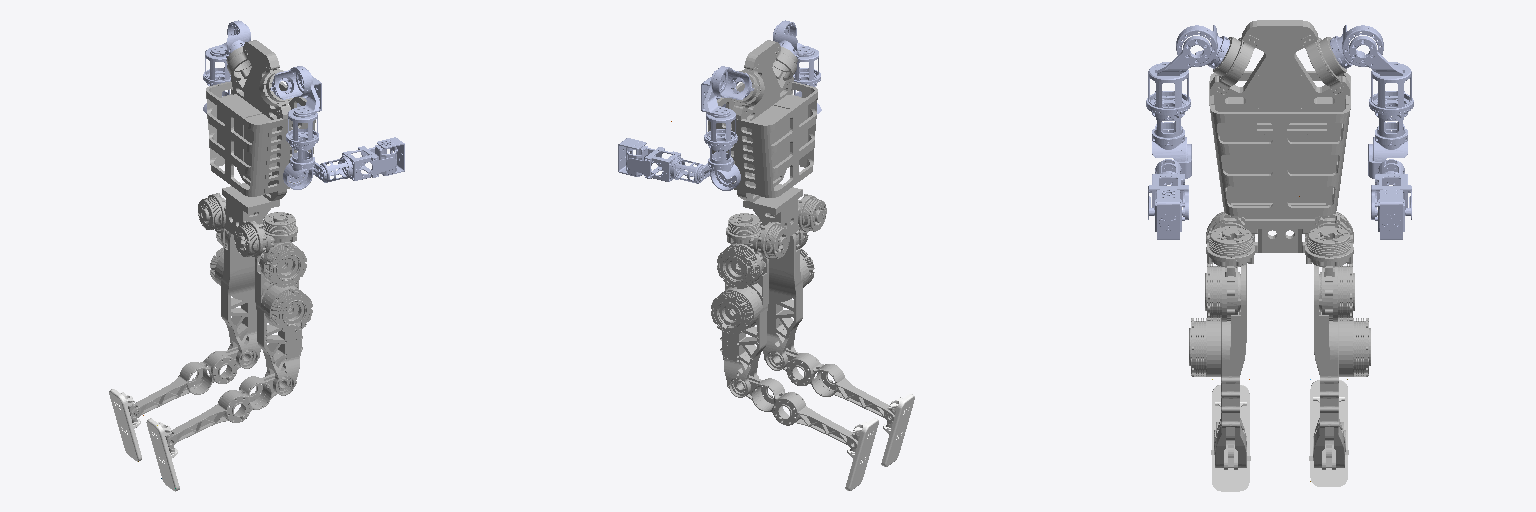
--- Facts derived from the render (not from the file) ---
The picture shows the robot from 3 angles, left to right: view 1: azimuth 30°, elevation 25°; view 2: azimuth 150°, elevation 25°; view 3: azimuth 270°, elevation 25°; orthographic projection.
Robot: hunter — 48 links, 47 joints (26 revolute, 21 fixed); root link base_link; default pose: joints at zero except 2 at the middle of their limits (leg_l4_joint = 1.3, leg_r4_joint = 1.3).
Links seen in each view (by area): view 1: base_link, leg_r3_link, leg_l3_link, leg_r4_link, leg_l4_link, leg_r2_link, zarm_r2_link, leg_r6_link, leg_l6_link, zarm_r3_link, zarm_r5_link, zarm_r1_link (+4 smaller); view 2: base_link, leg_l3_link, leg_r3_link, leg_l4_link, leg_r4_link, leg_l2_link, zarm_l2_Link, leg_r6_link, leg_l6_link, zarm_l3_Link, zarm_l5_Link, zarm_l1_Link (+4 smaller); view 3: base_link, leg_r3_link, leg_l3_link, zarm_r2_link, zarm_l2_Link, leg_r1_link, leg_l1_link, leg_r6_link, leg_l2_link, leg_r2_link, leg_l6_link, zarm_r3_link (+9 smaller).
Boxes of the visible links, x1,y1,x2,y2 form: base_link: [198, 40, 315, 256]; leg_r3_link: [255, 256, 312, 395]; leg_l3_link: [210, 221, 262, 368]; leg_r4_link: [167, 373, 296, 446]; leg_l4_link: [130, 347, 259, 419]; leg_r2_link: [259, 242, 306, 287]; zarm_r2_link: [286, 69, 319, 146]; leg_r6_link: [146, 418, 179, 491]; leg_l6_link: [109, 389, 141, 461]; zarm_r3_link: [283, 134, 319, 189]; zarm_r5_link: [342, 146, 396, 180]; zarm_r1_link: [270, 66, 310, 99]; base_link: [708, 40, 826, 258]; leg_l3_link: [711, 258, 768, 397]; leg_r3_link: [760, 223, 814, 370]; leg_l4_link: [727, 375, 857, 448]; leg_r4_link: [764, 348, 894, 421]; leg_l2_link: [717, 243, 764, 288]; zarm_l2_Link: [703, 70, 737, 146]; leg_r6_link: [881, 394, 914, 466]; leg_l6_link: [845, 418, 878, 490]; zarm_l3_Link: [704, 135, 740, 190]; zarm_l5_Link: [626, 147, 680, 181]; zarm_l1_Link: [712, 66, 753, 99]; base_link: [1206, 20, 1353, 252]; leg_r3_link: [1189, 264, 1246, 467]; leg_l3_link: [1314, 265, 1370, 467]; zarm_r2_link: [1146, 36, 1210, 114]; zarm_l2_Link: [1349, 36, 1413, 114]; leg_r1_link: [1206, 226, 1254, 276]; leg_l1_link: [1305, 226, 1353, 276]; leg_r6_link: [1212, 385, 1249, 491]; leg_l2_link: [1319, 263, 1354, 321]; leg_r2_link: [1205, 263, 1240, 321]; leg_l6_link: [1310, 380, 1347, 486]; zarm_r3_link: [1152, 99, 1186, 161].
Bounding box of the posed robot: 0.7538 × 0.5706 × 1.27 m (x, y, z).
27 mesh visuals loaded from 28 distinct referenced files (27 binary STL); not drawn: 1 (reference not matched to a file when rendering).

The robot description file, URDF, robot "hunter":
<?xml version="1.0" ?>
<!-- =================================================================================== -->
<!-- |    This document was autogenerated by xacro from [local-path]/waao_hunter/src/hunter_bipedal_control/legged_examples/legged_hunter/legged_hunter_description/urdf/robot.xacro | -->
<!-- |    EDITING THIS FILE BY HAND IS NOT RECOMMENDED                                 | -->
<!-- =================================================================================== -->
<robot name="hunter">
  <!-- <link name="world" />
  <joint name ="weld" type="fixed">
    <parent link="world"/>
    <child link="base_link"/>
    <origin xyz="0 0 0.3"/>
  </joint> -->
  <gazebo>
    <plugin filename="libhunter_bipedal_hw_sim.so" name="gazebo_ros_control">
      <robotNamespace>/</robotNamespace>
      <robotParam>legged_robot_description</robotParam>
      <robotSimType>legged_gazebo/LeggedHWSim</robotSimType>
    </plugin>
  </gazebo>
  <gazebo>
    <plugin filename="libgazebo_ros_p3d.so" name="p3d_base_controller">
      <alwaysOn>true</alwaysOn>
      <updateRate>500.0</updateRate>
      <bodyName>base_link</bodyName>
      <topicName>ground_truth/state</topicName>
      <gaussianNoise>0</gaussianNoise>
      <frameName>world</frameName>
      <xyzOffsets>0 0 0</xyzOffsets>
      <rpyOffsets>0 0 0</rpyOffsets>
    </plugin>
  </gazebo>
  <link name="base_link">
    <inertial>
      <origin rpy="0 0 0" xyz="-0.02983954 0.00086547 0.14856051"/>
      <mass value="18.945426"/>
      <inertia ixx="0.49280384" ixy="-0.00038292" ixz="-0.04951313" iyy="0.42814074" iyz="-0.00020145" izz="0.15555181"/>
    </inertial>
    <visual>
      <origin rpy="0 0 0" xyz="0 0 0"/>
      <geometry>
        <mesh filename="package://legged_hunter_description/meshes/base_link.STL"/>
      </geometry>
      <material name="">
        <color rgba="0.75294 0.75294 0.75294 1"/>
      </material>
    </visual>
    <collision>
      <origin rpy="0 0 0" xyz="-0.01 0 0.206"/>
      <geometry>
        <box size="0.184 0.15 0.2"/>
        <!--宽 长 高!-->
      </geometry>
    </collision>
  </link>
  <!-- Imu is fixed to the base link -->
  <joint name="imu_joint" type="fixed">
    <origin rpy="0. 0. 0." xyz="0. 0. 0"/>
    <parent link="base_link"/>
    <child link="imu_link"/>
  </joint>
  <!-- Imu link -->
  <link name="imu_link">
    <inertial>
      <mass value="0.01"/>
      <origin rpy="0 0 0" xyz="0 0 0"/>
      <inertia ixx="0.000001" ixy="0" ixz="0" iyy="0.000001" iyz="0" izz="0.000001"/>
    </inertial>
    <visual>
      <origin rpy="0 0 0" xyz="0 0 0"/>
      <geometry>
        <box size="0.015 0.015 0.004"/>
      </geometry>
    </visual>
    <material name="orange">
      <color rgba="255 108 10 255"/>
    </material>
  </link>
  <gazebo reference="imu_joint">
    <disableFixedJointLumping>true</disableFixedJointLumping>
  </gazebo>
  <!-- ************************************************************ -->
  <!-- ************************ Left Leg ************************** -->
  <!-- ************************************************************ -->
  <!-- ************* part 1 *************** -->
  <joint name="leg_l1_joint" type="revolute">
    <origin rpy="0 0 0" xyz="-0.08 0.105 -0.0675"/>
    <parent link="base_link"/>
    <child link="leg_l1_link"/>
    <axis xyz="1 0 0"/>
    <dynamics damping="0.00" friction="0.2"/>
    <limit effort="300" lower="-0.5" upper="0.5" velocity="18"/>
  </joint>
  <link name="leg_l1_link">
    <inertial>
      <origin rpy="0 0 0" xyz="0.10000784 -0.00009881 0.01657766"/>
      <mass value="1.54"/>
      <inertia ixx="0.00139323" ixy="-0.00000019" ixz="-0.00000048" iyy="0.00140374" iyz="0.00000650" izz="0.00173658"/>
    </inertial>
    <visual>
      <origin rpy="0 0 0" xyz="0 0 0"/>
      <geometry>
        <mesh filename="package://legged_hunter_description/meshes/leg_l1_link.STL"/>
      </geometry>
      <material name="">
        <color rgba="0.75294 0.75294 0.75294 1"/>
      </material>
    </visual>
    <collision>
      <origin rpy="1.57 0 1.57" xyz="-0.019 -0.001 0"/>
      <geometry>
        <box size="0.006 0.007 0.0155"/>
      </geometry>
    </collision>
  </link>
  <!-- ************* part 2 *************** -->
  <joint name="leg_l2_joint" type="revolute">
    <origin rpy="0 0 0" xyz="0.080001 0 0"/>
    <parent link="leg_l1_link"/>
    <child link="leg_l2_link"/>
    <axis xyz="0 0 1"/>
    <dynamics damping="0.00" friction="0.2"/>
    <limit effort="300" lower="-0.6" upper="0.6" velocity="18"/>
  </joint>
  <link name="leg_l2_link">
    <inertial>
      <origin rpy="0 0 0" xyz="0.00007811 0.00423442 -0.08994449"/>
      <mass value="2.7"/>
      <inertia ixx="0.00335768" ixy="-0.00001160" ixz="0.00000108" iyy="0.00323199" iyz="-0.00000465" izz="0.00335678"/>
    </inertial>
    <visual>
      <origin rpy="0 0 0" xyz="0 0 0"/>
      <geometry>
        <mesh filename="package://legged_hunter_description/meshes/leg_l2_link.STL"/>
      </geometry>
      <material name="">
        <color rgba="0.75294 0.75294 0.75294 1"/>
      </material>
    </visual>
    <collision>
      <origin rpy="1.57 0 0" xyz="0 0.0046 -0.057"/>
      <geometry>
        <cylinder length="0.00146" radius="0.0025"/>
      </geometry>
    </collision>
  </link>
  <!-- ************* part 3 *************** -->
  <joint name="leg_l3_joint" type="revolute">
    <origin rpy="0 0 0" xyz="0 0 -0.090001"/>
    <parent link="leg_l2_link"/>
    <child link="leg_l3_link"/>
    <axis xyz="0 1 0"/>
    <dynamics damping="0.00" friction="0.2"/>
    <limit effort="300" lower="-1.5" upper="0.5" velocity="17"/>
  </joint>
  <link name="leg_l3_link">
    <inertial>
      <origin rpy="0 0 0" xyz="0.00039619 0.04119274 -0.15289538"/>
      <mass value="4.8"/>
      <inertia ixx="0.04694541" ixy="0.00009678" ixz="0.00068599" iyy="0.04241315" iyz="-0.00410792" izz="0.01237341"/>
    </inertial>
    <visual>
      <origin rpy="0 0 0" xyz="0 0 0"/>
      <geometry>
        <mesh filename="package://legged_hunter_description/meshes/leg_l3_link.STL"/>
      </geometry>
      <material name="">
        <color rgba="0.75294 0.75294 0.75294 1"/>
      </material>
    </visual>
    <collision>
      <origin rpy="1.57 0 0" xyz="0.015 0.02 -0.1"/>
      <geometry>
        <box size="0.006 0.025 0.005"/>
      </geometry>
    </collision>
  </link>
  <!-- ************* part 4 *************** -->
  <joint name="leg_l4_joint" type="revolute">
    <origin rpy="0 0 0" xyz="0 0 -0.38"/>
    <parent link="leg_l3_link"/>
    <child link="leg_l4_link"/>
    <axis xyz="0 1 0"/>
    <dynamics damping="0.00" friction="0.2"/>
    <limit effort="300" lower="0.1" upper="2.5" velocity="17"/>
  </joint>
  <link name="leg_l4_link">
    <inertial>
      <origin rpy="0 0 0" xyz="0.00066117 0.00034461 -0.14038088"/>
      <mass value="2.9"/>
      <inertia ixx="0.04319157" ixy="0.00000750" ixz="-0.00073877" iyy="0.04385624" iyz="0.00049349" izz="0.00190256"/>
    </inertial>
    <visual>
      <origin rpy="0 0 0" xyz="0 0 0"/>
      <geometry>
        <mesh filename="package://legged_hunter_description/meshes/leg_l4_link.STL"/>
      </geometry>
      <material name="">
        <color rgba="0.75294 0.75294 0.75294 1"/>
      </material>
    </visual>
    <collision>
      <origin rpy="1.57 0 0" xyz="0 0 -0.18"/>
      <geometry>
        <box size="0.0041 0.025 0.003"/>
      </geometry>
    </collision>
    <collision>
      <origin rpy="1.57 0 0" xyz="-0.011 0.012 -0.079"/>
      <geometry>
        <cylinder length="0.007" radius="0.0034"/>
      </geometry>
    </collision>
  </link>
  <!-- ************* part 5 *************** -->
  <joint name="leg_l5_joint" type="revolute">
    <origin rpy="0 0 0" xyz="0 0 -0.38"/>
    <parent link="leg_l4_link"/>
    <child link="leg_l5_link"/>
    <axis xyz="0 1 0"/>
    <dynamics damping="0.02" friction="0.02"/>
    <limit effort="300" lower="-1.5" upper="1.5" velocity="15.49"/>
  </joint>
  <link name="leg_l5_link">
    <inertial>
      <origin rpy="0 0 0" xyz="-0.00518023 0.00000000 -0.00246757"/>
      <mass value="0.125"/>
      <inertia ixx="0.00000749" ixy="0.00000000" ixz="-0.00000017" iyy="0.00006652" iyz="0.00000000" izz="0.00006206"/>
    </inertial>
    <visual>
      <origin rpy="0 0 0" xyz="0 0 0"/>
      <geometry>
        <mesh filename="package://legged_hunter_description/meshes/leg_l5_link.STL"/>
      </geometry>
      <material name="">
        <color rgba="0.75294 0.75294 0.75294 1"/>
      </material>
    </visual>
    <!--collision>
      <origin xyz="0.0 0 -0.0" rpy="1.57 0 0" />
      <geometry>
        <cylinder length="0.007" radius="0.001"/>
      </geometry>
    </collision-->
  </link>
  <!-- ************* part 6 *************** -->
  <joint name="leg_l6_joint" type="revolute">
    <origin rpy="0 0 0" xyz="0 0 0"/>
    <parent link="leg_l5_link"/>
    <child link="leg_l6_link"/>
    <axis xyz="1 0 0"/>
    <dynamics damping="0.02" friction="0.02"/>
    <limit effort="300" lower="-1.5" upper="1.5" velocity="15.49"/>
  </joint>
  <link name="leg_l6_link">
    <inertial>
      <origin rpy="0 0 0" xyz="0.01218965 0.00000000 -0.01997971"/>
      <mass value="0.56"/>
      <inertia ixx="0.00030271" ixy="0.00000000" ixz="0.00012599" iyy="0.00193585" iyz="0.00000000" izz="0.00200345"/>
    </inertial>
    <visual>
      <origin rpy="0 0 0" xyz="0 0 0"/>
      <geometry>
        <mesh filename="package://legged_hunter_description/meshes/leg_l6_link.STL"/>
      </geometry>
      <material name="">
        <color rgba="1 1 1 1"/>
      </material>
    </visual>
    <collision>
      <origin rpy="0 0 0" xyz="0.03 0 -0.033"/>
      <geometry>
        <box size="0.230 0.08 0.015"/>
      </geometry>
    </collision>
  </link>
  <!-- ************* fixed joint & link *************** -->
  <joint name="leg_l6_fixed_1" type="fixed">
    <origin rpy="0 0 0" xyz="0.13 -0.04 -0.038"/>
    <parent link="leg_l6_link"/>
    <child link="leg_l_f1_link"/>
  </joint>
  <link name="leg_l_f1_link">
    <inertial>
      <mass value="0.01"/>
      <inertia ixx="0.000001" ixy="0" ixz="0" iyy="0.000001" iyz="0" izz="0.000001"/>
    </inertial>
    <visual>
      <origin rpy="0 0 0" xyz="0 0 0"/>
      <geometry>
        <sphere radius="0.001"/>
      </geometry>
    </visual>
    <collision>
      <origin rpy="0 0 0" xyz="0 0 0"/>
      <geometry>
        <sphere radius="0.001"/>
      </geometry>
    </collision>
  </link>
  <joint name="leg_l6_fixed_2" type="fixed">
    <origin rpy="0 0 0" xyz="-0.09 -0.04 -0.038"/>
    <parent link="leg_l6_link"/>
    <child link="leg_l_f2_link"/>
  </joint>
  <link name="leg_l_f2_link">
    <inertial>
      <mass value="0.01"/>
      <inertia ixx="0.000001" ixy="0" ixz="0" iyy="0.000001" iyz="0" izz="0.000001"/>
    </inertial>
    <visual>
      <origin rpy="0 0 0" xyz="0 0 0"/>
      <geometry>
        <sphere radius="0.001"/>
      </geometry>
    </visual>
    <collision>
      <origin rpy="0 0 0" xyz="-0 0 0"/>
      <geometry>
        <sphere radius="0.001"/>
      </geometry>
    </collision>
  </link>
  <joint name="leg_l6_fixed_3" type="fixed">
    <origin rpy="0 0 0" xyz="0.13 0.04 -0.038"/>
    <parent link="leg_l6_link"/>
    <child link="leg_l_f3_link"/>
  </joint>
  <link name="leg_l_f3_link">
    <inertial>
      <mass value="0.01"/>
      <inertia ixx="0.000001" ixy="0" ixz="0" iyy="0.000001" iyz="0" izz="0.000001"/>
    </inertial>
    <visual>
      <origin rpy="0 0 0" xyz="0 0 0"/>
      <geometry>
        <sphere radius="0.001"/>
      </geometry>
    </visual>
    <collision>
      <origin rpy="0 0 0" xyz="0 0 0"/>
      <geometry>
        <sphere radius="0.001"/>
      </geometry>
    </collision>
  </link>
  <joint name="leg_l6_fixed_4" type="fixed">
    <origin rpy="0 0 0" xyz="-0.09 0.04 -0.038"/>
    <parent link="leg_l6_link"/>
    <child link="leg_l_f4_link"/>
  </joint>
  <link name="leg_l_f4_link">
    <inertial>
      <mass value="0.01"/>
      <inertia ixx="0.000001" ixy="0" ixz="0" iyy="0.000001" iyz="0" izz="0.000001"/>
    </inertial>
    <visual>
      <origin rpy="0 0 0" xyz="0 0 0"/>
      <geometry>
        <sphere radius="0.001"/>
      </geometry>
    </visual>
    <collision>
      <origin rpy="0 0 0" xyz="-0 0 0"/>
      <geometry>
        <sphere radius="0.001"/>
      </geometry>
    </collision>
  </link>
  <!-- ************* gazebo reference *************** -->
  <gazebo reference="leg_l1_link">
    <mu1>0.6</mu1>
    <mu2>0.6</mu2>
    <self_collide>1</self_collide>
  </gazebo>
  <gazebo reference="leg_l2_link">
    <mu1>0.6</mu1>
    <mu2>0.6</mu2>
    <self_collide>1</self_collide>
  </gazebo>
  <gazebo reference="leg_l3_link">
    <mu1>0.6</mu1>
    <mu2>0.6</mu2>
    <self_collide>1</self_collide>
  </gazebo>
  <gazebo reference="leg_l4_link">
    <mu1>0.6</mu1>
    <mu2>0.6</mu2>
    <self_collide>1</self_collide>
  </gazebo>
  <gazebo reference="leg_l5_link">
    <mu1>0.6</mu1>
    <mu2>0.6</mu2>
  </gazebo>
  <gazebo reference="leg_l6_link">
    <mu1>1.5</mu1>
    <mu2>1.5</mu2>
    <self_collide>1</self_collide>
    <kp value="1000000.0"/>
    <kd value="100.0"/>
    <maxVel>1.0</maxVel>
    <minDepth>0.00</minDepth>
  </gazebo>
  <gazebo reference="leg_l_f1_link">
    <mu1>1.5</mu1>
    <mu2>1.5</mu2>
    <self_collide>1</self_collide>
    <kp value="1000000.0"/>
    <kd value="100.0"/>
    <maxVel>1.0</maxVel>
    <minDepth>0.00</minDepth>
  </gazebo>
  <gazebo reference="leg_l_f2_link">
    <mu1>1.5</mu1>
    <mu2>1.5</mu2>
    <self_collide>1</self_collide>
    <kp value="1000000.0"/>
    <kd value="100.0"/>
    <maxVel>1.0</maxVel>
    <minDepth>0.00</minDepth>
  </gazebo>
  <gazebo reference="leg_l_f3_link">
    <mu1>1.5</mu1>
    <mu2>1.5</mu2>
    <self_collide>1</self_collide>
    <kp value="1000000.0"/>
    <kd value="100.0"/>
    <maxVel>1.0</maxVel>
    <minDepth>0.00</minDepth>
  </gazebo>
  <gazebo reference="leg_l_f4_link">
    <mu1>1.5</mu1>
    <mu2>1.5</mu2>
    <self_collide>1</self_collide>
    <kp value="1000000.0"/>
    <kd value="100.0"/>
    <maxVel>1.0</maxVel>
    <minDepth>0.00</minDepth>
  </gazebo>
  <!-- ************* transmission *************** -->
  <transmission name="leg_l1_tran">
    <type>transmission_interface/SimpleTransmission</type>
    <joint name="leg_l1_joint">
      <hardwareInterface>hardware_interface/EffortJointInterface</hardwareInterface>
    </joint>
    <actuator name="leg_l1_motor">
      <hardwareInterface>hardware_interface/EffortJointInterface</hardwareInterface>
      <mechanicalReduction>1</mechanicalReduction>
      <maxVelocity>2.87</maxVelocity>
      <!-- 85rpm -->
      <maxEffort>182</maxEffort>
      <!-- 36Nm -->
    </actuator>
  </transmission>
  <transmission name="leg_l2_tran">
    <type>transmission_interface/SimpleTransmission</type>
    <joint name="leg_l2_joint">
      <hardwareInterface>hardware_interface/EffortJointInterface</hardwareInterface>
    </joint>
    <actuator name="leg_l2_motor">
      <hardwareInterface>hardware_interface/EffortJointInterface</hardwareInterface>
      <mechanicalReduction>1</mechanicalReduction>
      <maxVelocity>2.87</maxVelocity>
      <!-- 160rpm -->
      <maxEffort>182</maxEffort>
      <!-- 94Nm -->
    </actuator>
  </transmission>
  <transmission name="leg_l3_tran">
    <type>transmission_interface/SimpleTransmission</type>
    <joint name="leg_l3_joint">
      <hardwareInterface>hardware_interface/EffortJointInterface</hardwareInterface>
    </joint>
    <actuator name="leg_l3_motor">
      <hardwareInterface>hardware_interface/EffortJointInterface</hardwareInterface>
      <mechanicalReduction>1</mechanicalReduction>
      <maxVelocity>2.6545</maxVelocity>
      <!-- 160rpm -->
      <maxEffort>278</maxEffort>
      <!-- 94Nm -->
    </actuator>
  </transmission>
  <transmission name="leg_l4_tran">
    <type>transmission_interface/SimpleTransmission</type>
    <joint name="leg_l4_joint">
      <hardwareInterface>hardware_interface/EffortJointInterface</hardwareInterface>
    </joint>
    <actuator name="leg_l4_motor">
      <hardwareInterface>hardware_interface/EffortJointInterface</hardwareInterface>
      <mechanicalReduction>1</mechanicalReduction>
      <maxVelocity>2.6545</maxVelocity>
      <!-- 85rpm -->
      <maxEffort>278</maxEffort>
      <!-- 36Nm -->
    </actuator>
  </transmission>
  <transmission name="leg_l5_tran">
    <type>transmission_interface/SimpleTransmission</type>
    <joint name="leg_l5_joint">
      <hardwareInterface>hardware_interface/EffortJointInterface</hardwareInterface>
    </joint>
    <actuator name="leg_l5_motor">
      <hardwareInterface>hardware_interface/EffortJointInterface</hardwareInterface>
      <mechanicalReduction>1</mechanicalReduction>
    </actuator>
  </transmission>
  <transmission name="leg_l6_tran">
    <type>transmission_interface/SimpleTransmission</type>
    <joint name="leg_l6_joint">
      <hardwareInterface>hardware_interface/EffortJointInterface</hardwareInterface>
    </joint>
    <actuator name="leg_l6_motor">
      <hardwareInterface>hardware_interface/EffortJointInterface</hardwareInterface>
      <mechanicalReduction>1</mechanicalReduction>
    </actuator>
  </transmission>
  <!-- ************************************************************ -->
  <!-- ************************ Right Leg ************************** -->
  <!-- ************************************************************ -->
  <!-- ************* part 1 *************** -->
  <joint name="leg_r1_joint" type="revolute">
    <origin rpy="0 0 0" xyz="-0.08 -0.105 -0.0675"/>
    <parent link="base_link"/>
    <child link="leg_r1_link"/>
    <axis xyz="1 0 0"/>
    <dynamics damping="0.00" friction="0.2"/>
    <limit effort="300" lower="-0.5" upper="0.5" velocity="18"/>
  </joint>
  <link name="leg_r1_link">
    <inertial>
      <origin rpy="0 0 0" xyz="0.07867925 -0.00007201 0.00877160"/>
      <mass value="1.54"/>
      <inertia ixx="0.00139323" ixy="-0.00000019" ixz="0.00000048" iyy="0.00140374" iyz="-0.00000650" izz="0.00173658"/>
    </inertial>
    <visual>
      <origin rpy="0 0 0" xyz="0 0 0"/>
      <geometry>
        <mesh filename="package://legged_hunter_description/meshes/leg_r1_link.STL"/>
      </geometry>
      <material name="">
        <color rgba="0.75294 0.75294 0.75294 1"/>
      </material>
    </visual>
    <collision>
      <origin rpy="1.57 0 1.57" xyz="-0.019 -0.001 0"/>
      <geometry>
        <box size="0.006 0.007 0.0155"/>
      </geometry>
    </collision>
  </link>
  <!-- ************* part 2 *************** -->
  <joint name="leg_r2_joint" type="revolute">
    <origin rpy="0 0 0" xyz="0.080001 0 0"/>
    <parent link="leg_r1_link"/>
    <child link="leg_r2_link"/>
    <axis xyz="0 0 1"/>
    <dynamics damping="0.00" friction="0.2"/>
    <limit effort="300" lower="-0.6" upper="0.6" velocity="18"/>
  </joint>
  <link name="leg_r2_link">
    <inertial>
      <origin rpy="0 0 0" xyz="-0.00007811 -0.00423442 -0.15499595"/>
      <mass value="2.7"/>
      <inertia ixx="0.00335768" ixy="-0.00001160" ixz="-0.00000108" iyy="0.00323199" iyz="0.00000465" izz="0.00335678"/>
    </inertial>
    <visual>
      <origin rpy="0 0 0" xyz="0 0 0"/>
      <geometry>
        <mesh filename="package://legged_hunter_description/meshes/leg_r2_link.STL"/>
      </geometry>
      <material name="">
        <color rgba="0.75294 0.75294 0.75294 1"/>
      </material>
    </visual>
    <collision>
      <origin rpy="1.57 0 0" xyz="0 -0.0033 -0.057"/>
      <geometry>
        <cylinder length="0.00146" radius="0.0015"/>
      </geometry>
    </collision>
  </link>
  <!-- ************* part 3 *************** -->
  <joint name="leg_r3_joint" type="revolute">
    <origin rpy="0 0 0" xyz="0 0 -0.090001"/>
    <parent link="leg_r2_link"/>
    <child link="leg_r3_link"/>
    <axis xyz="0 1 0"/>
    <dynamics damping="0.00" friction="0.2"/>
    <limit effort="300" lower="-1.5" upper="0.5" velocity="17"/>
  </joint>
  <link name="leg_r3_link">
    <inertial>
      <origin rpy="0 0 0" xyz="0.00044061 -0.04113251 -0.15499595"/>
      <mass value="4.8"/>
      <inertia ixx="0.04859117" ixy="-0.00008785" ixz="0.00069103" iyy="0.04399962" iyz="0.00445708" izz="0.01238287"/>
    </inertial>
    <visual>
      <origin rpy="0 0 0" xyz="0 0 0"/>
      <geometry>
        <mesh filename="package://legged_hunter_description/meshes/leg_r3_link.STL"/>
      </geometry>
      <material name="">
        <color rgba="0.75294 0.75294 0.75294 1"/>
      </material>
    </visual>
    <collision>
      <origin rpy="1.57 0 0" xyz="0.015 -0.02 -0.1"/>
      <geometry>
        <box size="0.006 0.025 0.005"/>
      </geometry>
    </collision>
  </link>
  <!-- ************* part 4 *************** -->
  <joint name="leg_r4_joint" type="revolute">
    <origin rpy="0 0 0" xyz="0 0 -0.38"/>
    <parent link="leg_r3_link"/>
    <child link="leg_r4_link"/>
    <axis xyz="0 1 0"/>
    <dynamics damping="0.00" friction="0.2"/>
    <limit effort="300" lower="0.1" upper="2.5" velocity="17"/>
  </joint>
  <link name="leg_r4_link">
    <inertial>
      <origin rpy="0 0 0" xyz="0.00066117 -0.00034461 -0.14038088"/>
      <mass value="2.9"/>
      <inertia ixx="0.04319157" ixy="-0.00000750" ixz="-0.00073877" iyy="0.04385624" iyz="-0.00049349" izz="0.00190256"/>
    </inertial>
    <visual>
      <origin rpy="0 0 0" xyz="0 0 0"/>
      <geometry>
        <mesh filename="package://legged_hunter_description/meshes/leg_r4_link.STL"/>
      </geometry>
      <material name="">
        <color rgba="0.75294 0.75294 0.75294 1"/>
      </material>
    </visual>
    <collision>
      <origin rpy="1.57 0 0" xyz="0 0 -0.18"/>
      <geometry>
        <box size="0.0041 0.025 0.003"/>
      </geometry>
    </collision>
    <collision>
      <origin rpy="1.57 0 0" xyz="-0.011 -0.012 -0.079"/>
      <geometry>
        <cylinder length="0.07" radius="0.034"/>
      </geometry>
    </collision>
  </link>
  <!-- ************* part 5 *************** -->
  <joint name="leg_r5_joint" type="revolute">
    <origin rpy="0 0 0" xyz="0 0 -0.38"/>
    <parent link="leg_r4_link"/>
    <child link="leg_r5_link"/>
    <axis xyz="0 1 0"/>
    <dynamics damping="0.02" friction="0.02"/>
    <limit effort="300" lower="-1.5" upper="1.5" velocity="15.49"/>
  </joint>
  <link name="leg_r5_link">
    <inertial>
      <origin rpy="0 0 0" xyz="-0.00518023 0.000000 -0.00246757"/>
      <mass value="0.125"/>
      <inertia ixx="0.00000749" ixy="0.00000000" ixz="-0.00000017" iyy="0.00006652" iyz="0.00000000" izz="0.00006206"/>
    </inertial>
    <visual>
      <origin rpy="0 0 0" xyz="0 0 0"/>
      <geometry>
        <mesh filename="package://legged_hunter_description/meshes/leg_r5_link.STL"/>
      </geometry>
      <material name="">
        <color rgba="0.75294 0.75294 0.75294 1"/>
      </material>
    </visual>
    <!--collision>
      <origin xyz="0.0 0 -0.0" rpy="1.57 0 0" />
      <geometry>
        <cylinder length="0.007" radius="0.001"/>
      </geometry>
    </collision-->
  </link>
  <!-- ************* part 6 *************** -->
  <joint name="leg_r6_joint" type="revolute">
    <origin rpy="0 0 0" xyz="0 0 0"/>
    <parent link="leg_r5_link"/>
    <child link="leg_r6_link"/>
    <axis xyz="1 0 0"/>
    <dynamics damping="0.02" friction="0.02"/>
    <limit effort="300" lower="-1.5" upper="1.5" velocity="15.49"/>
  </joint>
  <link name="leg_r6_link">
    <inertial>
      <origin rpy="0 0 0" xyz="0.01218965 0.00000000 -0.01997971"/>
      <mass value="0.56"/>
      <inertia ixx="0.00030271" ixy="0.00000000" ixz="0.00012599" iyy="0.00193585" iyz="0.00000000" izz="0.00200345"/>
    </inertial>
    <visual>
      <origin rpy="0 0 0" xyz="0 0 0"/>
      <geometry>
        <mesh filename="package://legged_hunter_description/meshes/leg_r6_link.STL"/>
      </geometry>
      <material name="">
        <color rgba="1 1 1 1"/>
      </material>
    </visual>
    <collision>
      <origin rpy="0 0 0" xyz="0.03 0 -0.033"/>
      <geometry>
        <box size="0.230 0.08 0.015"/>
      </geometry>
    </collision>
  </link>
  <!-- ************* fixed joint *************** -->
  <joint name="leg_r6_fixed_1" type="fixed">
    <origin rpy="0 0 0" xyz="0.13 -0.04 -0.038"/>
    <parent link="leg_r6_link"/>
    <child link="leg_r_f1_link"/>
  </joint>
  <link name="leg_r_f1_link">
    <inertial>
      <mass value="0.01"/>
      <inertia ixx="0.000001" ixy="0" ixz="0" iyy="0.000001" iyz="0" izz="0.000001"/>
    </inertial>
    <visual>
      <origin rpy="0 0 0" xyz="0 0 0"/>
      <geometry>
        <sphere radius="0.001"/>
      </geometry>
    </visual>
    <collision>
      <origin rpy="0 0 0" xyz="0 0 0"/>
      <geometry>
        <sphere radius="0.001"/>
      </geometry>
    </collision>
  </link>
  <joint name="leg_r6_fixed_2" type="fixed">
    <origin rpy="0 0 0" xyz="-0.090 -0.04 -0.038"/>
    <parent link="leg_r6_link"/>
    <child link="leg_r_f2_link"/>
  </joint>
  <link name="leg_r_f2_link">
    <inertial>
      <mass value="0.01"/>
      <inertia ixx="0.000001" ixy="0" ixz="0" iyy="0.000001" iyz="0" izz="0.000001"/>
    </inertial>
    <visual>
      <origin rpy="0 0 0" xyz="0 0 0"/>
      <geometry>
        <sphere radius="0.001"/>
      </geometry>
    </visual>
    <collision>
      <origin rpy="0 0 0" xyz="0 0 0"/>
      <geometry>
        <sphere radius="0.001"/>
      </geometry>
    </collision>
  </link>
  <joint name="leg_r6_fixed_3" type="fixed">
    <origin rpy="0 0 0" xyz="0.13 0.04 -0.038"/>
    <parent link="leg_r6_link"/>
    <child link="leg_r_f3_link"/>
  </joint>
  <link name="leg_r_f3_link">
    <inertial>
      <mass value="0.01"/>
      <inertia ixx="0.000001" ixy="0" ixz="0" iyy="0.000001" iyz="0" izz="0.000001"/>
    </inertial>
    <visual>
      <origin rpy="0 0 0" xyz="0 0 0"/>
      <geometry>
        <sphere radius="0.001"/>
      </geometry>
    </visual>
    <collision>
      <origin rpy="0 0 0" xyz="0 0 0"/>
      <geometry>
        <sphere radius="0.001"/>
      </geometry>
    </collision>
  </link>
  <joint name="leg_r6_fixed_4" type="fixed">
    <origin rpy="0 0 0" xyz="-0.090 0.04 -0.038"/>
    <parent link="leg_r6_link"/>
    <child link="leg_r_f4_link"/>
  </joint>
  <link name="leg_r_f4_link">
    <inertial>
      <mass value="0.01"/>
      <inertia ixx="0.000001" ixy="0" ixz="0" iyy="0.000001" iyz="0" izz="0.000001"/>
    </inertial>
    <visual>
      <origin rpy="0 0 0" xyz="0 0 0"/>
      <geometry>
        <sphere radius="0.001"/>
      </geometry>
    </visual>
    <collision>
      <origin rpy="0 0 0" xyz="0 0 0"/>
      <geometry>
        <sphere radius="0.001"/>
      </geometry>
    </collision>
  </link>
  <!-- ************* gazebo reference *************** -->
  <gazebo reference="leg_r1_link">
    <mu1>0.6</mu1>
    <mu2>0.6</mu2>
    <self_collide>1</self_collide>
  </gazebo>
  <gazebo reference="leg_r2_link">
    <mu1>0.6</mu1>
    <mu2>0.6</mu2>
    <self_collide>1</self_collide>
  </gazebo>
  <gazebo reference="leg_r3_link">
    <mu1>0.6</mu1>
    <mu2>0.6</mu2>
    <self_collide>1</self_collide>
  </gazebo>
  <gazebo reference="leg_r4_link">
    <mu1>0.6</mu1>
    <mu2>0.6</mu2>
    <self_collide>1</self_collide>
  </gazebo>
  <gazebo reference="leg_r5_link">
    <mu1>0.6</mu1>
    <mu2>0.6</mu2>
  </gazebo>
  <gazebo reference="leg_r6_link">
    <mu1>1.5</mu1>
    <mu2>1.5</mu2>
    <self_collide>1</self_collide>
    <kp value="1000000.0"/>
    <kd value="100.0"/>
    <maxVel>1.0</maxVel>
    <minDepth>0.00</minDepth>
  </gazebo>
  <gazebo reference="leg_r_f1_link">
    <mu1>1.5</mu1>
    <mu2>1.5</mu2>
    <self_collide>1</self_collide>
    <kp value="1000000.0"/>
    <kd value="100.0"/>
    <maxVel>1.0</maxVel>
    <minDepth>0.00</minDepth>
  </gazebo>
  <gazebo reference="leg_r_f2_link">
    <mu1>1.5</mu1>
    <mu2>1.5</mu2>
    <self_collide>1</self_collide>
    <kp value="1000000.0"/>
    <kd value="100.0"/>
    <maxVel>1.0</maxVel>
    <minDepth>0.00</minDepth>
  </gazebo>
  <gazebo reference="leg_r_f3_link">
    <mu1>1.5</mu1>
    <mu2>1.5</mu2>
    <self_collide>1</self_collide>
    <kp value="1000000.0"/>
    <kd value="100.0"/>
    <maxVel>1.0</maxVel>
    <minDepth>0.00</minDepth>
  </gazebo>
  <gazebo reference="leg_r_f4_link">
    <mu1>1.5</mu1>
    <mu2>1.5</mu2>
    <self_collide>1</self_collide>
    <kp value="1000000.0"/>
    <kd value="100.0"/>
    <maxVel>1.0</maxVel>
    <minDepth>0.00</minDepth>
  </gazebo>
  <!-- ************* gazebo transmission *************** -->
  <transmission name="leg_r1_tran">
    <type>transmission_interface/SimpleTransmission</type>
    <joint name="leg_r1_joint">
      <hardwareInterface>hardware_interface/EffortJointInterface</hardwareInterface>
    </joint>
    <actuator name="leg_r1_motor">
      <hardwareInterface>hardware_interface/EffortJointInterface</hardwareInterface>
      <mechanicalReduction>1</mechanicalReduction>
      <maxVelocity>2.87</maxVelocity>
      <!-- 85rpm -->
      <maxEffort>182</maxEffort>
      <!-- 36Nm -->
    </actuator>
  </transmission>
  <transmission name="leg_r2_tran">
    <type>transmission_interface/SimpleTransmission</type>
    <joint name="leg_r2_joint">
      <hardwareInterface>hardware_interface/EffortJointInterface</hardwareInterface>
    </joint>
    <actuator name="leg_r2_motor">
      <hardwareInterface>hardware_interface/EffortJointInterface</hardwareInterface>
      <mechanicalReduction>1</mechanicalReduction>
      <maxVelocity>2.87</maxVelocity>
      <!-- 160rpm -->
      <maxEffort>182</maxEffort>
      <!-- 94Nm -->
    </actuator>
  </transmission>
  <transmission name="leg_r3_tran">
    <type>transmission_interface/SimpleTransmission</type>
    <joint name="leg_r3_joint">
      <hardwareInterface>hardware_interface/EffortJointInterface</hardwareInterface>
    </joint>
    <actuator name="leg_r3_motor">
      <hardwareInterface>hardware_interface/EffortJointInterface</hardwareInterface>
      <mechanicalReduction>1</mechanicalReduction>
      <maxVelocity>2.6545</maxVelocity>
      <!-- 160rpm -->
      <maxEffort>278</maxEffort>
      <!-- 94Nm -->
    </actuator>
  </transmission>
  <transmission name="leg_r4_tran">
    <type>transmission_interface/SimpleTransmission</type>
    <joint name="leg_r4_joint">
      <hardwareInterface>hardware_interface/EffortJointInterface</hardwareInterface>
    </joint>
    <actuator name="leg_r4_motor">
      <hardwareInterface>hardware_interface/EffortJointInterface</hardwareInterface>
      <mechanicalReduction>1</mechanicalReduction>
      <maxVelocity>2.6545</maxVelocity>
      <!-- 85rpm -->
      <maxEffort>278</maxEffort>
      <!-- 36Nm -->
    </actuator>
  </transmission>
  <transmission name="leg_r5_tran">
    <type>transmission_interface/SimpleTransmission</type>
    <joint name="leg_r5_joint">
      <hardwareInterface>hardware_interface/EffortJointInterface</hardwareInterface>
    </joint>
    <actuator name="leg_r5_motor">
      <hardwareInterface>hardware_interface/EffortJointInterface</hardwareInterface>
      <mechanicalReduction>1</mechanicalReduction>
    </actuator>
  </transmission>
  <transmission name="leg_r6_tran">
    <type>transmission_interface/SimpleTransmission</type>
    <joint name="leg_r6_joint">
      <hardwareInterface>hardware_interface/EffortJointInterface</hardwareInterface>
    </joint>
    <actuator name="leg_r6_motor">
      <hardwareInterface>hardware_interface/EffortJointInterface</hardwareInterface>
      <mechanicalReduction>1</mechanicalReduction>
    </actuator>
  </transmission>
  <!-- ************************************************************ -->
  <!-- ************************ Left zarm ************************** -->
  <!-- ************************************************************ -->
  <link name="zarm_l1_Link">
    <inertial>
      <origin rpy="0 0 0" xyz="0.00035297 0.0054003 0.054195"/>
      <mass value="0.9535"/>
      <inertia ixx="0.0012763" ixy="5.61E-06" ixz="1.12E-06" iyy="0.0012519" iyz="3.58E-05" izz="0.0010663"/>
    </inertial>
    <visual>
      <origin rpy="0 0 0" xyz="0 0 0"/>
      <geometry>
        <mesh filename="package://legged_hunter_description/meshes/zarm_l1_Link.STL"/>
      </geometry>
      <material name="">
        <color rgba="0.79216 0.81961 0.93333 1"/>
      </material>
    </visual>
  </link>
  <joint name="zarm_l1_joint" type="revolute">
    <origin rpy="0 -1.0472 -1.5708" xyz="0 0.12279 0.40213"/>
    <parent link="base_link"/>
    <child link="zarm_l1_Link"/>
    <axis xyz="0 0 1"/>
    <limit effort="90" lower="-3.14" upper="3.14" velocity="3.14"/>
  </joint>
  <link name="zarm_l2_Link">
    <inertial>
      <origin rpy="0 0 0" xyz="0.055439 -0.090985 -0.032863"/>
      <mass value="1.2"/>
      <inertia ixx="0.0025886" ixy="0.00049571" ixz="0.00023309" iyy="0.001704" iyz="-0.00049499" izz="0.002642"/>
    </inertial>
    <visual>
      <origin rpy="0 0 0" xyz="0 0 0"/>
      <geometry>
        <mesh filename="package://legged_hunter_description/meshes/zarm_l2_Link.STL"/>
      </geometry>
      <material name="">
        <color rgba="0.79216 0.81961 0.93333 1"/>
      </material>
    </visual>
  </link>
  <joint name="zarm_l2_joint" type="revolute">
    <origin rpy="1.5708 -1.0472 3.1416" xyz="0 0.039 0.063"/>
    <parent link="zarm_l1_Link"/>
    <child link="zarm_l2_Link"/>
    <axis xyz="0 0 1"/>
    <limit effort="90" lower="0" upper="2.093" velocity="3.14"/>
  </joint>
  <link name="zarm_l3_Link">
    <inertial>
      <origin rpy="0 0 0" xyz="0.0048486 -0.00016012 0.11131"/>
      <mass value="1.0637"/>
      <inertia ixx="0.0025964" ixy="5.74E-06" ixz="-9.7E-05" iyy="0.002625" iyz="-8.2E-07" izz="0.0011718"/>
    </inertial>
    <visual>
      <origin rpy="0 0 0" xyz="0 0 0"/>
      <geometry>
        <mesh filename="package://legged_hunter_description/meshes/zarm_l3_Link.STL"/>
      </geometry>
      <material name="">
        <color rgba="0.79216 0.81961 0.93333 1"/>
      </material>
    </visual>
  </link>
  <joint name="zarm_l3_joint" type="revolute">
    <origin rpy="1.5708 0 0" xyz="0.060456 -0.152 -0.039"/>
    <parent link="zarm_l2_Link"/>
    <child link="zarm_l3_Link"/>
    <axis xyz="0 0 1"/>
    <limit effort="90" lower="-3.14" upper="3.14" velocity="3.14"/>
  </joint>
  <link name="zarm_l4_Link">
    <inertial>
      <origin rpy="0 0 0" xyz="2.47E-05 -0.084392 -0.031049"/>
      <mass value="0.5554"/>
      <inertia ixx="0.0011728" ixy="-4.9E-07" ixz="3.1E-07" iyy="0.00038472" iyz="-0.0002729" izz="0.0010442"/>
    </inertial>
    <visual>
      <origin rpy="0 0 0" xyz="0 0 0"/>
      <geometry>
        <mesh filename="package://legged_hunter_description/meshes/zarm_l4_Link.STL"/>
      </geometry>
      <material name="">
        <color rgba="0.79216 0.81961 0.93333 1"/>
      </material>
    </visual>
  </link>
  <joint name="zarm_l4_joint" type="revolute">
    <origin rpy="-1.5708 1.5708 1.5708" xyz="-0.039 0 0.123"/>
    <parent link="zarm_l3_Link"/>
    <child link="zarm_l4_Link"/>
    <axis xyz="0 0 1"/>
    <limit effort="90" lower="-2" upper="2" velocity="3.14"/>
  </joint>
  <link name="zarm_l5_Link">
    <inertial>
      <origin rpy="0 0 0" xyz="0.0077864 -0.00025521 0.047106"/>
      <mass value="0.5729"/>
      <inertia ixx="0.00065916" ixy="9.54E-06" ixz="-6E-05" iyy="0.00092404" iyz="1.58E-06" izz="0.00063648"/>
    </inertial>
    <visual>
      <origin rpy="0 0 0" xyz="0 0 0"/>
      <geometry>
        <mesh filename="package://legged_hunter_description/meshes/zarm_l5_Link.STL"/>
      </geometry>
      <material name="">
        <color rgba="0.79216 0.81961 0.93333 1"/>
      </material>
    </visual>
  </link>
  <joint name="zarm_l5_joint" type="revolute">
    <origin rpy="1.5708 1.5708 0" xyz="0 -0.1461 -0.039"/>
    <parent link="zarm_l4_Link"/>
    <child link="zarm_l5_Link"/>
    <axis xyz="0 0 1"/>
    <limit effort="90" lower="-3.14" upper="3.14" velocity="3.14"/>
  </joint>
  <link name="zarm_l6_Link">
    <inertial>
      <origin rpy="0 0 0" xyz="0 0.0066539 0.031141"/>
      <mass value="0.4316"/>
      <inertia ixx="0.00039901" ixy="-4.2E-07" ixz="-2.4E-07" iyy="0.00022416" iyz="-1.03E-06" izz="0.00038958"/>
    </inertial>
    <visual>
      <origin rpy="0 0 0" xyz="0 0 0"/>
      <geometry>
        <mesh filename="package://legged_hunter_description/meshes/zarm_l6_Link.STL"/>
      </geometry>
      <material name="">
        <color rgba="0.79216 0.81961 0.93333 1"/>
      </material>
    </visual>
  </link>
  <joint name="zarm_l6_joint" type="revolute">
    <origin rpy="0 -1.5708 0" xyz="0.031 0 0.1289"/>
    <parent link="zarm_l5_Link"/>
    <child link="zarm_l6_Link"/>
    <axis xyz="0 0 1"/>
    <limit effort="90" lower="-1.047" upper="1.047" velocity="3.14"/>
  </joint>
  <link name="zarm_l7_Link">
    <inertial>
      <origin rpy="0 0 0" xyz="0 0.028046 0.034646"/>
      <mass value="0.23075"/>
      <inertia ixx="0.00039565" ixy="0" ixz="0" iyy="0.0003459" iyz="1.9E-05" izz="0.000148"/>
    </inertial>
    <visual>
      <origin rpy="0 0 0" xyz="0 0 0"/>
      <geometry>
        <mesh filename="package://legged_hunter_description/meshes/zarm_l7_Link.STL"/>
      </geometry>
      <material name="">
        <color rgba="0.79216 0.81961 0.93333 1"/>
      </material>
    </visual>
  </link>
  <joint name="zarm_l7_joint" type="revolute">
    <origin rpy="1.5708 -1.5708 0" xyz="0 -0.0374 0.031"/>
    <parent link="zarm_l6_Link"/>
    <child link="zarm_l7_Link"/>
    <axis xyz="0 0 1"/>
    <limit effort="90" lower="-1.57" upper="1.57" velocity="3.14"/>
  </joint>
  <joint name="zarm_l_fixed_1" type="fixed">
    <origin rpy="0 0 0" xyz="0.0 0.0 0.0"/>
    <parent link="zarm_l7_Link"/>
    <child link="zarm_l_f1_link"/>
  </joint>
  <link name="zarm_l_f1_link">
    <inertial>
      <mass value="0.01"/>
      <inertia ixx="0.000001" ixy="0" ixz="0" iyy="0.000001" iyz="0" izz="0.000001"/>
    </inertial>
    <visual>
      <origin rpy="0 0 0" xyz="0 0 0"/>
      <geometry>
        <sphere radius="0.001"/>
      </geometry>
    </visual>
    <collision>
      <origin rpy="0 0 0" xyz="0 0 0"/>
      <geometry>
        <sphere radius="0.001"/>
      </geometry>
    </collision>
  </link>
  <gazebo reference="zarm_l1_Link">
    <mu1>0.6</mu1>
    <mu2>0.6</mu2>
    <self_collide>1</self_collide>
  </gazebo>
  <gazebo reference="zarm_l2_Link">
    <mu1>0.6</mu1>
    <mu2>0.6</mu2>
    <self_collide>1</self_collide>
  </gazebo>
  <gazebo reference="zarm_l3_Link">
    <mu1>0.6</mu1>
    <mu2>0.6</mu2>
    <self_collide>1</self_collide>
  </gazebo>
  <gazebo reference="zarm_l4_Link">
    <mu1>0.6</mu1>
    <mu2>0.6</mu2>
    <self_collide>1</self_collide>
  </gazebo>
  <gazebo reference="zarm_l5_Link">
    <mu1>0.6</mu1>
    <mu2>0.6</mu2>
    <self_collide>1</self_collide>
  </gazebo>
  <gazebo reference="zarm_l6_Link">
    <mu1>0.6</mu1>
    <mu2>0.6</mu2>
    <self_collide>1</self_collide>
  </gazebo>
  <gazebo reference="zarm_l7_Link">
    <mu1>0.6</mu1>
    <mu2>0.6</mu2>
    <self_collide>1</self_collide>
  </gazebo>
  <gazebo reference="zarm_l_f1_link">
    <mu1>1.5</mu1>
    <mu2>1.5</mu2>
    <self_collide>1</self_collide>
    <kp value="1000000.0"/>
    <kd value="100.0"/>
    <maxVel>1.0</maxVel>
    <minDepth>0.00</minDepth>
  </gazebo>
  <transmission name="zarm_l1_tran">
    <type>transmission_interface/SimpleTransmission</type>
    <joint name="zarm_l1_joint">
      <hardwareInterface>hardware_interface/EffortJointInterface</hardwareInterface>
    </joint>
    <actuator name="zarm_l1_motor">
      <hardwareInterface>hardware_interface/EffortJointInterface</hardwareInterface>
      <mechanicalReduction>1</mechanicalReduction>
      <maxVelocity>2.87</maxVelocity>
      <maxEffort>182</maxEffort>
    </actuator>
  </transmission>
  <transmission name="zarm_l2_tran">
    <type>transmission_interface/SimpleTransmission</type>
    <joint name="zarm_l2_joint">
      <hardwareInterface>hardware_interface/EffortJointInterface</hardwareInterface>
    </joint>
    <actuator name="zarm_l2_motor">
      <hardwareInterface>hardware_interface/EffortJointInterface</hardwareInterface>
      <mechanicalReduction>1</mechanicalReduction>
      <maxVelocity>2.87</maxVelocity>
      <maxEffort>182</maxEffort>
    </actuator>
  </transmission>
  <transmission name="zarm_l3_tran">
    <type>transmission_interface/SimpleTransmission</type>
    <joint name="zarm_l3_joint">
      <hardwareInterface>hardware_interface/EffortJointInterface</hardwareInterface>
    </joint>
    <actuator name="zarm_l3_motor">
      <hardwareInterface>hardware_interface/EffortJointInterface</hardwareInterface>
      <mechanicalReduction>1</mechanicalReduction>
      <maxVelocity>2.6545</maxVelocity>
      <maxEffort>278</maxEffort>
    </actuator>
  </transmission>
  <transmission name="zarm_l4_tran">
    <type>transmission_interface/SimpleTransmission</type>
    <joint name="zarm_l4_joint">
      <hardwareInterface>hardware_interface/EffortJointInterface</hardwareInterface>
    </joint>
    <actuator name="zarm_l4_motor">
      <hardwareInterface>hardware_interface/EffortJointInterface</hardwareInterface>
      <mechanicalReduction>1</mechanicalReduction>
      <maxVelocity>2.6545</maxVelocity>
      <maxEffort>278</maxEffort>
    </actuator>
  </transmission>
  <transmission name="zarm_l5_tran">
    <type>transmission_interface/SimpleTransmission</type>
    <joint name="zarm_l5_joint">
      <hardwareInterface>hardware_interface/EffortJointInterface</hardwareInterface>
    </joint>
    <actuator name="zarm_l5_motor">
      <hardwareInterface>hardware_interface/EffortJointInterface</hardwareInterface>
      <mechanicalReduction>1</mechanicalReduction>
      <maxVelocity>2.6545</maxVelocity>
      <maxEffort>278</maxEffort>
    </actuator>
  </transmission>
  <transmission name="zarm_l6_tran">
    <type>transmission_interface/SimpleTransmission</type>
    <joint name="zarm_l6_joint">
      <hardwareInterface>hardware_interface/EffortJointInterface</hardwareInterface>
    </joint>
    <actuator name="zarm_l6_motor">
      <hardwareInterface>hardware_interface/EffortJointInterface</hardwareInterface>
      <mechanicalReduction>1</mechanicalReduction>
      <maxVelocity>2.6545</maxVelocity>
      <maxEffort>278</maxEffort>
    </actuator>
  </transmission>
  <transmission name="zarm_l7_tran">
    <type>transmission_interface/SimpleTransmission</type>
    <joint name="zarm_l7_joint">
      <hardwareInterface>hardware_interface/EffortJointInterface</hardwareInterface>
    </joint>
    <actuator name="zarm_l7_motor">
      <hardwareInterface>hardware_interface/EffortJointInterface</hardwareInterface>
      <mechanicalReduction>1</mechanicalReduction>
      <maxVelocity>2.6545</maxVelocity>
      <maxEffort>278</maxEffort>
    </actuator>
  </transmission>
  <!-- ************************************************************ -->
  <!-- ************************ Right zarm ************************** -->
  <!-- ************************************************************ -->
  <link name="zarm_r1_link">
    <inertial>
      <origin rpy="0 0 0" xyz="0.00035297 0.0054003 0.054195"/>
      <mass value="0.9535"/>
      <inertia ixx="0.0012763" ixy="5.61E-06" ixz="-1.12E-06" iyy="0.0012519" iyz="-3.58E-05" izz="0.0010663"/>
    </inertial>
    <visual>
      <origin rpy="0 0 0" xyz="0 0 0"/>
      <geometry>
        <mesh filename="package://legged_hunter_description/meshes/zarm_r1_link.STL"/>
      </geometry>
      <material name="">
        <color rgba="0.79216 0.81961 0.93333 1"/>
      </material>
    </visual>
  </link>
  <joint name="zarm_r1_joint" type="revolute">
    <origin rpy="0 -1.0472 1.5708" xyz="0 -0.12279 0.40213"/>
    <parent link="base_link"/>
    <child link="zarm_r1_link"/>
    <axis xyz="0 0 1"/>
    <limit effort="90" lower="-3.14" upper="3.14" velocity="3.14"/>
  </joint>
  <link name="zarm_r2_link">
    <inertial>
      <origin rpy="0 0 0" xyz="-0.055353 -0.091038 -0.032863"/>
      <mass value="1.2"/>
      <inertia ixx="0.0025867" ixy="-0.00050202" ixz="-0.00023665" iyy="0.0017031" iyz="-0.00052466" izz="0.0026449"/>
    </inertial>
    <visual>
      <origin rpy="0 0 0" xyz="0 0 0"/>
      <geometry>
        <mesh filename="package://legged_hunter_description/meshes/zarm_r2_link.STL"/>
      </geometry>
      <material name="">
        <color rgba="0.79216 0.81961 0.93333 1"/>
      </material>
    </visual>
  </link>
  <joint name="zarm_r2_joint" type="revolute">
    <origin rpy="1.5708 1.0472 0" xyz="0 -0.039 0.063"/>
    <parent link="zarm_r1_link"/>
    <child link="zarm_r2_link"/>
    <axis xyz="0 0 1"/>
    <limit effort="90" lower="-2.093" upper="0" velocity="3.14"/>
  </joint>
  <link name="zarm_r3_link">
    <inertial>
      <origin rpy="0 0 0" xyz="-0.0048486 0.00016012 0.11131"/>
      <mass value="1.0637"/>
      <inertia ixx="0.0025964" ixy="5.74E-06" ixz="9.7E-05" iyy="0.002625" iyz="8.2E-07" izz="0.0011718"/>
    </inertial>
    <visual>
      <origin rpy="0 0 0" xyz="0 0 0"/>
      <geometry>
        <mesh filename="package://legged_hunter_description/meshes/zarm_r3_link.STL"/>
      </geometry>
      <material name="">
        <color rgba="0.79216 0.81961 0.93333 1"/>
      </material>
    </visual>
  </link>
  <joint name="zarm_r3_joint" type="revolute">
    <origin rpy="1.5708 0 0" xyz="-0.060456 -0.152 -0.039"/>
    <parent link="zarm_r2_link"/>
    <child link="zarm_r3_link"/>
    <axis xyz="0 0 1"/>
    <limit effort="90" lower="-3.14" upper="3.14" velocity="3.14"/>
  </joint>
  <link name="zarm_r4_link">
    <inertial>
      <origin rpy="0 0 0" xyz="2.56E-05 -0.084392 -0.031048"/>
      <mass value="0.5554"/>
      <inertia ixx="0.0011725" ixy="-1.75E-06" ixz="5.1E-07" iyy="0.00038472" iyz="-0.00027023" izz="0.0010444"/>
    </inertial>
    <visual>
      <origin rpy="0 0 0" xyz="0 0 0"/>
      <geometry>
        <mesh filename="package://legged_hunter_description/meshes/zarm_r4_link.STL"/>
      </geometry>
      <material name="">
        <color rgba="0.79216 0.81961 0.93333 1"/>
      </material>
    </visual>
  </link>
  <joint name="zarm_r4_joint" type="revolute">
    <origin rpy="-1.5708 -1.5708 -1.5708" xyz="0.039 0 0.123"/>
    <parent link="zarm_r3_link"/>
    <child link="zarm_r4_link"/>
    <axis xyz="0 0 1"/>
    <limit effort="90" lower="-2" upper="2" velocity="3.14"/>
  </joint>
  <link name="zarm_r5_link">
    <inertial>
      <origin rpy="0 0 0" xyz="0.0077864 0.00025521 0.047106"/>
      <mass value="0.5729"/>
      <inertia ixx="0.00065916" ixy="9.54E-06" ixz="-6E-05" iyy="0.00092404" iyz="1.58E-06" izz="0.00063648"/>
    </inertial>
    <visual>
      <origin rpy="0 0 0" xyz="0 0 0"/>
      <geometry>
        <mesh filename="package://legged_hunter_description/meshes/zarm_r5_link.STL"/>
      </geometry>
      <material name="">
        <color rgba="0.79216 0.81961 0.93333 1"/>
      </material>
    </visual>
  </link>
  <joint name="zarm_r5_joint" type="revolute">
    <origin rpy="1.5708 -1.5708 0" xyz="0 -0.1461 -0.039"/>
    <parent link="zarm_r4_link"/>
    <child link="zarm_r5_link"/>
    <axis xyz="0 0 1"/>
    <limit effort="90" lower="-3.14" upper="3.14" velocity="3.14"/>
  </joint>
  <link name="zarm_r6_link">
    <inertial>
      <origin rpy="0 0 0" xyz="0 -0.006654 0.03114"/>
      <mass value="0.4316"/>
      <inertia ixx="0.00039901" ixy="-4.2E-07" ixz="2.4E-07" iyy="0.00022416" iyz="1.03E-06" izz="0.00038958"/>
    </inertial>
    <visual>
      <origin rpy="0 0 0" xyz="0 0 0"/>
      <geometry>
        <mesh filename="package://legged_hunter_description/meshes/zarm_r6_link.STL"/>
      </geometry>
      <material name="">
        <color rgba="0.79216 0.81961 0.93333 1"/>
      </material>
    </visual>
  </link>
  <joint name="zarm_r6_joint" type="revolute">
    <origin rpy="3.1416 -1.5708 0" xyz="-0.031 0 0.1289"/>
    <parent link="zarm_r5_link"/>
    <child link="zarm_r6_link"/>
    <axis xyz="0 0 1"/>
    <limit effort="90" lower="-1.047" upper="1.047" velocity="3.14"/>
  </joint>
  <link name="zarm_r7_link">
    <inertial>
      <origin rpy="0 0 0" xyz="-0.00078364 0.028035 0.034646"/>
      <mass value="0.23075"/>
      <inertia ixx="0.00039565" ixy="1.4E-06" ixz="-5.31E-07" iyy="0.0003459" iyz="1.9E-05" izz="0.000148"/>
    </inertial>
    <visual>
      <origin rpy="0 0 0" xyz="0 0 0"/>
      <geometry>
        <mesh filename="package://legged_hunter_description/meshes/zarm_r7_link.STL"/>
      </geometry>
      <material name="">
        <color rgba="0.79216 0.81961 0.93333 1"/>
      </material>
    </visual>
  </link>
  <joint name="zarm_r7_joint" type="revolute">
    <origin rpy="1.5708 -1.5708 0" xyz="0 -0.0374 0.031"/>
    <parent link="zarm_r6_link"/>
    <child link="zarm_r7_link"/>
    <axis xyz="0 0 1"/>
    <limit effort="90" lower="-1.57" upper="1.57" velocity="3.14"/>
  </joint>
  <joint name="zarm_r_fixed_1" type="fixed">
    <origin rpy="0 0 0" xyz="0.28 0.0 0.0"/>
    <parent link="zarm_r7_link"/>
    <child link="zarm_r_f1_link"/>
  </joint>
  <link name="zarm_r_f1_link">
    <inertial>
      <mass value="0.01"/>
      <inertia ixx="0.000001" ixy="0" ixz="0" iyy="0.000001" iyz="0" izz="0.000001"/>
    </inertial>
    <visual>
      <origin rpy="0 0 0" xyz="0 0 0"/>
      <geometry>
        <sphere radius="0.001"/>
      </geometry>
    </visual>
    <collision>
      <origin rpy="0 0 0" xyz="0 0 0"/>
      <geometry>
        <sphere radius="0.001"/>
      </geometry>
    </collision>
  </link>
  <gazebo reference="zarm_r1_link">
    <mu1>0.6</mu1>
    <mu2>0.6</mu2>
    <self_collide>1</self_collide>
  </gazebo>
  <gazebo reference="zarm_r2_link">
    <mu1>0.6</mu1>
    <mu2>0.6</mu2>
    <self_collide>1</self_collide>
  </gazebo>
  <gazebo reference="zarm_r3_link">
    <mu1>0.6</mu1>
    <mu2>0.6</mu2>
    <self_collide>1</self_collide>
  </gazebo>
  <gazebo reference="zarm_r4_link">
    <mu1>0.6</mu1>
    <mu2>0.6</mu2>
    <self_collide>1</self_collide>
  </gazebo>
  <gazebo reference="zarm_r5_link">
    <mu1>0.6</mu1>
    <mu2>0.6</mu2>
    <self_collide>1</self_collide>
  </gazebo>
  <gazebo reference="zarm_r6_link">
    <mu1>0.6</mu1>
    <mu2>0.6</mu2>
    <self_collide>1</self_collide>
  </gazebo>
  <gazebo reference="zarm_r7_link">
    <mu1>0.6</mu1>
    <mu2>0.6</mu2>
    <self_collide>1</self_collide>
  </gazebo>
  <gazebo reference="zarm_r_f1_link">
    <mu1>1.5</mu1>
    <mu2>1.5</mu2>
    <self_collide>1</self_collide>
    <kp value="1000000.0"/>
    <kd value="100.0"/>
    <maxVel>1.0</maxVel>
    <minDepth>0.00</minDepth>
  </gazebo>
  <transmission name="zarm_r1_tran">
    <type>transmission_interface/SimpleTransmission</type>
    <joint name="zarm_r1_joint">
      <hardwareInterface>hardware_interface/EffortJointInterface</hardwareInterface>
    </joint>
    <actuator name="zarm_r1_motor">
      <hardwareInterface>hardware_interface/EffortJointInterface</hardwareInterface>
      <mechanicalReduction>1</mechanicalReduction>
      <maxVelocity>2.87</maxVelocity>
      <maxEffort>182</maxEffort>
    </actuator>
  </transmission>
  <transmission name="zarm_r2_tran">
    <type>transmission_interface/SimpleTransmission</type>
    <joint name="zarm_r2_joint">
      <hardwareInterface>hardware_interface/EffortJointInterface</hardwareInterface>
    </joint>
    <actuator name="zarm_r2_motor">
      <hardwareInterface>hardware_interface/EffortJointInterface</hardwareInterface>
      <mechanicalReduction>1</mechanicalReduction>
      <maxVelocity>2.87</maxVelocity>
      <maxEffort>182</maxEffort>
    </actuator>
  </transmission>
  <transmission name="zarm_r3_tran">
    <type>transmission_interface/SimpleTransmission</type>
    <joint name="zarm_r3_joint">
      <hardwareInterface>hardware_interface/EffortJointInterface</hardwareInterface>
    </joint>
    <actuator name="zarm_r3_motor">
      <hardwareInterface>hardware_interface/EffortJointInterface</hardwareInterface>
      <mechanicalReduction>1</mechanicalReduction>
      <maxVelocity>2.6545</maxVelocity>
      <maxEffort>278</maxEffort>
    </actuator>
  </transmission>
  <transmission name="zarm_r4_tran">
    <type>transmission_interface/SimpleTransmission</type>
    <joint name="zarm_r4_joint">
      <hardwareInterface>hardware_interface/EffortJointInterface</hardwareInterface>
    </joint>
    <actuator name="zarm_r4_motor">
      <hardwareInterface>hardware_interface/EffortJointInterface</hardwareInterface>
      <mechanicalReduction>1</mechanicalReduction>
      <maxVelocity>2.6545</maxVelocity>
      <maxEffort>278</maxEffort>
    </actuator>
  </transmission>
  <transmission name="zarm_r5_tran">
    <type>transmission_interface/SimpleTransmission</type>
    <joint name="zarm_r5_joint">
      <hardwareInterface>hardware_interface/EffortJointInterface</hardwareInterface>
    </joint>
    <actuator name="zarm_r5_motor">
      <hardwareInterface>hardware_interface/EffortJointInterface</hardwareInterface>
      <mechanicalReduction>1</mechanicalReduction>
      <maxVelocity>2.6545</maxVelocity>
      <maxEffort>278</maxEffort>
    </actuator>
  </transmission>
  <transmission name="zarm_r6_tran">
    <type>transmission_interface/SimpleTransmission</type>
    <joint name="zarm_r6_joint">
      <hardwareInterface>hardware_interface/EffortJointInterface</hardwareInterface>
    </joint>
    <actuator name="zarm_r6_motor">
      <hardwareInterface>hardware_interface/EffortJointInterface</hardwareInterface>
      <mechanicalReduction>1</mechanicalReduction>
      <maxVelocity>2.6545</maxVelocity>
      <maxEffort>278</maxEffort>
    </actuator>
  </transmission>
  <transmission name="zarm_r7_tran">
    <type>transmission_interface/SimpleTransmission</type>
    <joint name="zarm_r7_joint">
      <hardwareInterface>hardware_interface/EffortJointInterface</hardwareInterface>
    </joint>
    <actuator name="zarm_r7_motor">
      <hardwareInterface>hardware_interface/EffortJointInterface</hardwareInterface>
      <mechanicalReduction>1</mechanicalReduction>
      <maxVelocity>2.6545</maxVelocity>
      <maxEffort>278</maxEffort>
    </actuator>
  </transmission>
  <!-- <xacro:include filename="$(find legged_perceptive_description)/urdf/sensor_t265.xacro"/> -->
  <!-- <xacro:include filename="$(find legged_perceptive_description)/urdf/mid360.xacro"/> -->
  <!-- <xacro:include filename="$(find legged_perceptive_description)/urdf/livox_mid360.xacro"/>
    <xacro:include filename="$(find legged_perceptive_description)/urdf/livox_mid361.xacro"/> -->
  <material name="front_camera_aluminum">
    <color rgba="0.5 0.5 0.5 1"/>
  </material>
  <!-- camera body, with origin at bottom screw mount -->
  <joint name="front_camera_joint" type="fixed">
    <origin rpy="3.141 1.2 0" xyz="0.25 -0.0 0.08"/>
    <parent link="base_link"/>
    <child link="front_camera_bottom_screw_frame"/>
  </joint>
  <link name="front_camera_bottom_screw_frame"/>
  <joint name="front_camera_link_joint" type="fixed">
    <origin rpy="0 0 0" xyz="0 0.0175 0.0125"/>
    <parent link="front_camera_bottom_screw_frame"/>
    <child link="front_camera_link"/>
  </joint>
  <link name="front_camera_link">
    <visual>
      <origin rpy="1.5707963267948966 0 1.5707963267948966" xyz="0.0149 -0.0175 0"/>
      <geometry>
        <!-- <box size="${d435_cam_width} ${d435_cam_height} ${d435_cam_depth}"/> -->
        <mesh filename="package://realsense2_description/meshes/d435.dae"/>
        <!--<mesh filename="package://realsense2_description/meshes/d435/d435.dae" />-->
      </geometry>
      <material name="front_camera_aluminum"/>
    </visual>
    <collision>
      <origin rpy="0 0 0" xyz="0 -0.0175 0"/>
      <geometry>
        <box size="0.02505 0.09 0.025"/>
      </geometry>
    </collision>
    <inertial>
      <!-- The following are not reliable values, and should not be used for modeling -->
      <mass value="0.072"/>
      <origin xyz="0 0 0"/>
      <inertia ixx="0.003881243" ixy="0.0" ixz="0.0" iyy="0.000498940" iyz="0.0" izz="0.003879257"/>
    </inertial>
  </link>
  <!-- camera depth joints and links -->
  <joint name="front_camera_depth_joint" type="fixed">
    <origin rpy="0 0 0" xyz="0 0 0"/>
    <parent link="front_camera_link"/>
    <child link="front_camera_depth_frame"/>
  </joint>
  <link name="front_camera_depth_frame"/>
  <joint name="front_camera_depth_optical_joint" type="fixed">
    <origin rpy="-1.5707963267948966 0 -1.5707963267948966" xyz="0 0 0"/>
    <parent link="front_camera_depth_frame"/>
    <child link="front_camera_depth_optical_frame"/>
  </joint>
  <link name="front_camera_depth_optical_frame"/>
  <!-- camera left IR joints and links -->
  <joint name="front_camera_left_ir_joint" type="fixed">
    <origin rpy="0 0 0" xyz="0 0.0 0"/>
    <parent link="front_camera_depth_frame"/>
    <child link="front_camera_left_ir_frame"/>
  </joint>
  <link name="front_camera_left_ir_frame"/>
  <joint name="front_camera_left_ir_optical_joint" type="fixed">
    <origin rpy="-1.5707963267948966 0 -1.5707963267948966" xyz="0 0 0"/>
    <parent link="front_camera_left_ir_frame"/>
    <child link="front_camera_left_ir_optical_frame"/>
  </joint>
  <link name="front_camera_left_ir_optical_frame"/>
  <!-- camera right IR joints and links -->
  <joint name="front_camera_right_ir_joint" type="fixed">
    <origin rpy="0 0 0" xyz="0 -0.05 0"/>
    <parent link="front_camera_depth_frame"/>
    <child link="front_camera_right_ir_frame"/>
  </joint>
  <link name="front_camera_right_ir_frame"/>
  <joint name="front_camera_right_ir_optical_joint" type="fixed">
    <origin rpy="-1.5707963267948966 0 -1.5707963267948966" xyz="0 0 0"/>
    <parent link="front_camera_right_ir_frame"/>
    <child link="front_camera_right_ir_optical_frame"/>
  </joint>
  <link name="front_camera_right_ir_optical_frame"/>
  <!-- camera color joints and links -->
  <joint name="front_camera_color_joint" type="fixed">
    <origin rpy="0 0 0" xyz="0 0.015 0"/>
    <parent link="front_camera_depth_frame"/>
    <child link="front_camera_color_frame"/>
  </joint>
  <link name="front_camera_color_frame"/>
  <joint name="front_camera_color_optical_joint" type="fixed">
    <origin rpy="-1.5707963267948966 0 -1.5707963267948966" xyz="0 0 0"/>
    <parent link="front_camera_color_frame"/>
    <child link="front_camera_color_optical_frame"/>
  </joint>
  <link name="front_camera_color_optical_frame"/>
  <gazebo reference="front_camera_link">
    <self_collide>0</self_collide>
    <enable_wind>0</enable_wind>
    <kinematic>0</kinematic>
    <gravity>1</gravity>
    <!--<mu>1</mu>-->
    <mu2>1</mu2>
    <fdir1>0 0 0</fdir1>
    <!--<slip1>0</slip1>
            <slip2>0</slip2>-->
    <kp>1e+13</kp>
    <kd>1</kd>
    <!--<max_vel>0.01</max_vel>
            <min_depth>0</min_depth>-->
    <sensor name="front_cameracolor" type="camera">
      <camera name="front_camera">
        <horizontal_fov>1.2112585008840648</horizontal_fov>
        <image>
          <width>640</width>
          <height>480</height>
          <format>RGB_INT8</format>
        </image>
        <clip>
          <near>0.1</near>
          <far>100</far>
        </clip>
        <noise>
          <type>gaussian</type>
          <mean>0.0</mean>
          <stddev>0.007</stddev>
        </noise>
      </camera>
      <always_on>1</always_on>
      <update_rate>30</update_rate>
      <visualize>1</visualize>
    </sensor>
    <sensor name="front_cameraired1" type="camera">
      <camera name="front_camera">
        <horizontal_fov>1.4870205226991688</horizontal_fov>
        <image>
          <width>1280</width>
          <height>720</height>
          <format>L_INT8</format>
        </image>
        <clip>
          <near>0.1</near>
          <far>100</far>
        </clip>
        <noise>
          <type>gaussian</type>
          <mean>0.0</mean>
          <stddev>0.05</stddev>
        </noise>
      </camera>
      <always_on>1</always_on>
      <update_rate>90</update_rate>
      <visualize>0</visualize>
    </sensor>
    <sensor name="front_cameraired2" type="camera">
      <camera name="front_camera">
        <horizontal_fov>1.4870205226991688</horizontal_fov>
        <image>
          <width>1280</width>
          <height>720</height>
          <format>L_INT8</format>
        </image>
        <clip>
          <near>0.1</near>
          <far>100</far>
        </clip>
        <noise>
          <type>gaussian</type>
          <mean>0.0</mean>
          <stddev>0.05</stddev>
        </noise>
      </camera>
      <always_on>1</always_on>
      <update_rate>90</update_rate>
      <visualize>0</visualize>
    </sensor>
    <sensor name="front_cameradepth" type="depth">
      <camera name="front_camera">
        <horizontal_fov>1.4870205226991688</horizontal_fov>
        <image>
          <width>1280</width>
          <height>720</height>
        </image>
        <clip>
          <near>0.1</near>
          <far>5</far>
        </clip>
        <noise>
          <type>gaussian</type>
          <mean>0.0</mean>
          <stddev>0.100</stddev>
        </noise>
      </camera>
      <always_on>1</always_on>
      <update_rate>10</update_rate>
      <visualize>0</visualize>
    </sensor>
  </gazebo>
  <gazebo>
    <plugin filename="librealsense_gazebo_plugin.so" name="front_camera">
      <prefix>front_camera</prefix>
      <depthTopicName>aligned_depth_to_color/image_raw</depthTopicName>
      <depthCameraInfoTopicName>depth/camera_info</depthCameraInfoTopicName>
      <colorTopicName>color/image_raw</colorTopicName>
      <colorCameraInfoTopicName>color/camera_info</colorCameraInfoTopicName>
      <colorOpticalframeName>front_camera_color_optical_frame</colorOpticalframeName>
      <depthOpticalframeName>front_camera_depth_optical_frame</depthOpticalframeName>
      <rangeMinDepth>0.2</rangeMinDepth>
      <rangeMaxDepth>5.0</rangeMaxDepth>
      <pointCloud>True</pointCloud>
      <pointCloudTopicName>depth/color/points</pointCloudTopicName>
      <pointCloudCutoff>0.2</pointCloudCutoff>
      <pointCloudCutoffMax>5.0</pointCloudCutoffMax>
    </plugin>
  </gazebo>
  <!-- <xacro:sensor_t265 name="tracking_camera" topics_ns="tracking_camera" parent="base">
        <origin xyz="0.16 0 0.085" rpy="0 -1.04 0"/>
    </xacro:sensor_t265> -->
  <!-- <xacro:livox_mid360 name="livox_right" parent="base_link">
        <origin xyz="0.365 -0.068 -0.030" rpy="-2.59 1.03 3.09"/>
    </xacro:livox_mid360>

    <xacro:livox_mid361 name="livox_left" parent="base_link">
        <origin xyz="0.365 0.068 -0.030" rpy="2.59 1.03 -3.09"/>
    </xacro:livox_mid361> -->
</robot>
